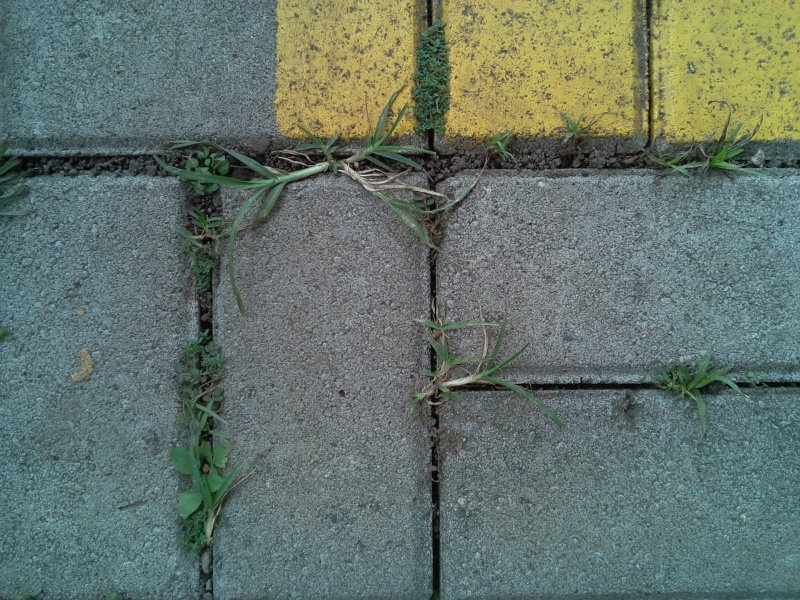Weed: (179, 127, 334, 279), (329, 94, 453, 257), (410, 303, 543, 422), (171, 425, 243, 553), (646, 124, 755, 192), (660, 342, 745, 423), (407, 18, 459, 132), (175, 330, 231, 427), (179, 215, 234, 287), (179, 142, 229, 197), (554, 111, 595, 152), (487, 122, 519, 163)
